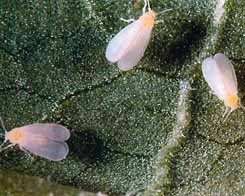whitefly: (106, 1, 170, 69), (199, 54, 245, 123), (1, 117, 70, 162)
